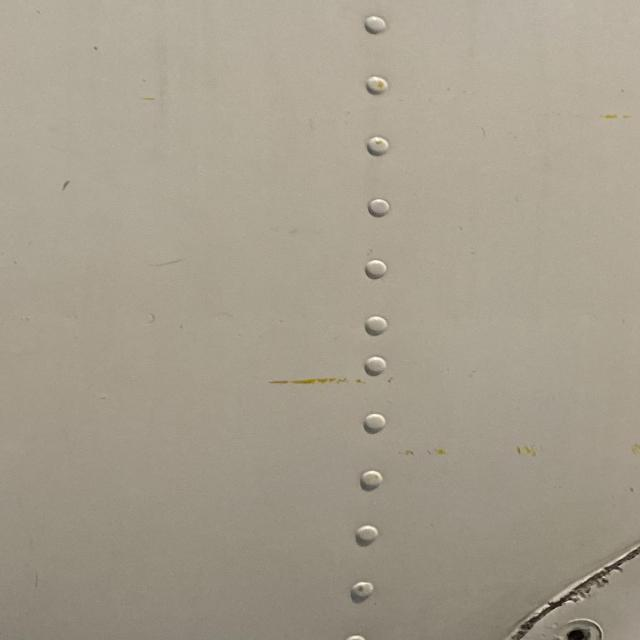Crack: (528, 537, 640, 628), (473, 578, 590, 640)
Missing-head: (554, 620, 602, 640)
